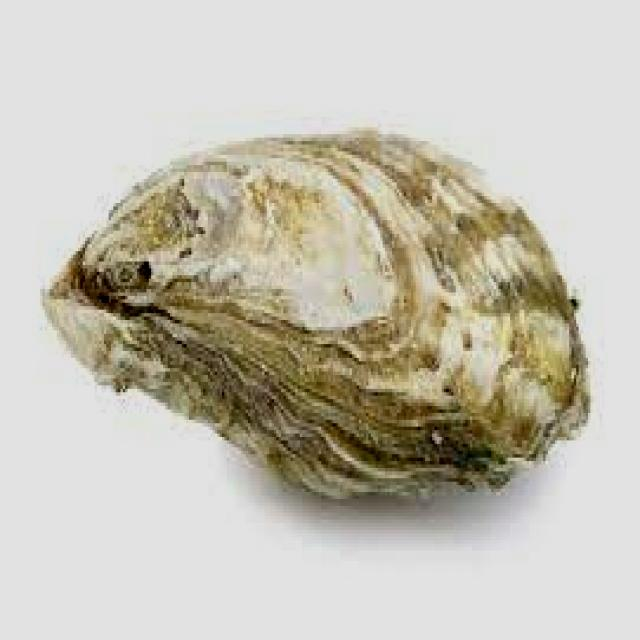Oyster-Closed: (48, 127, 593, 499)
